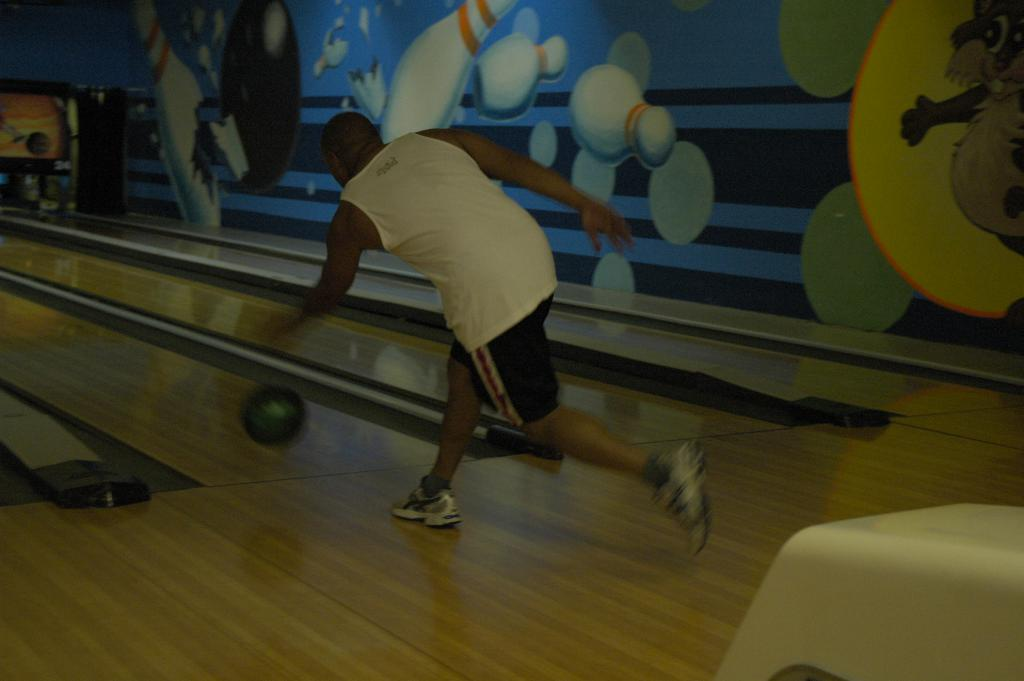Ball: (240, 379, 307, 450)
